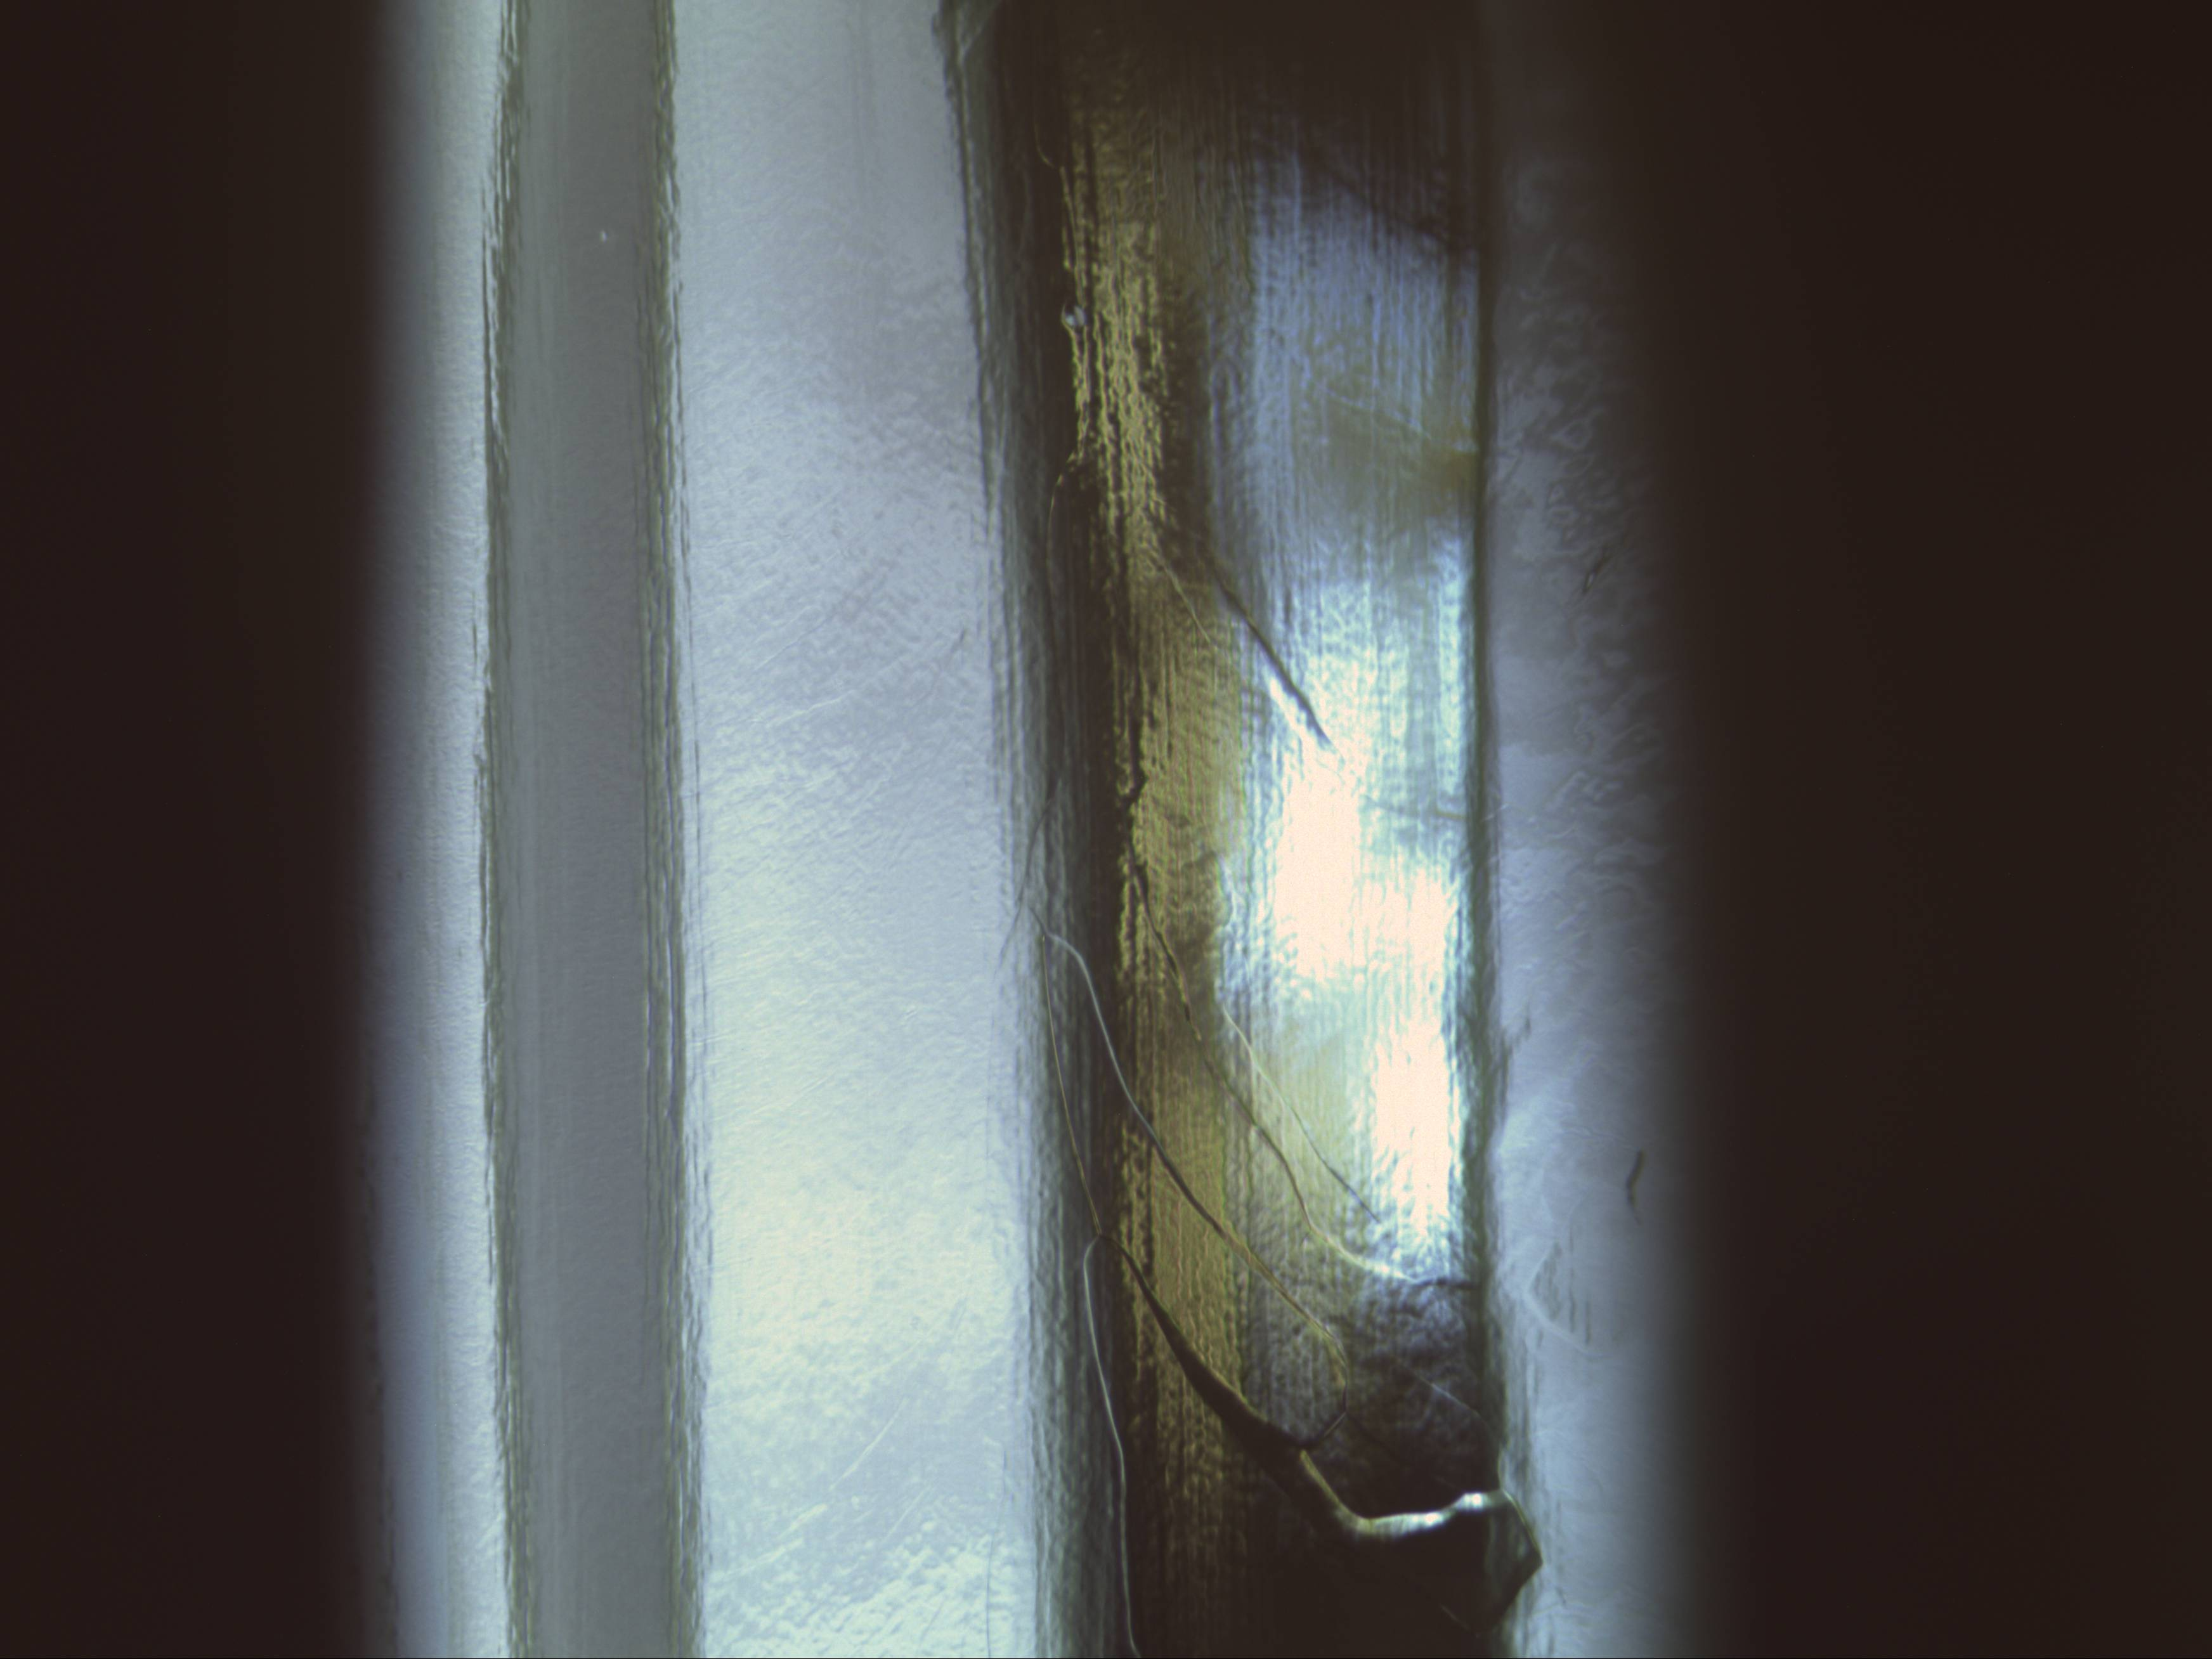defect: (1055, 296, 1096, 333)
